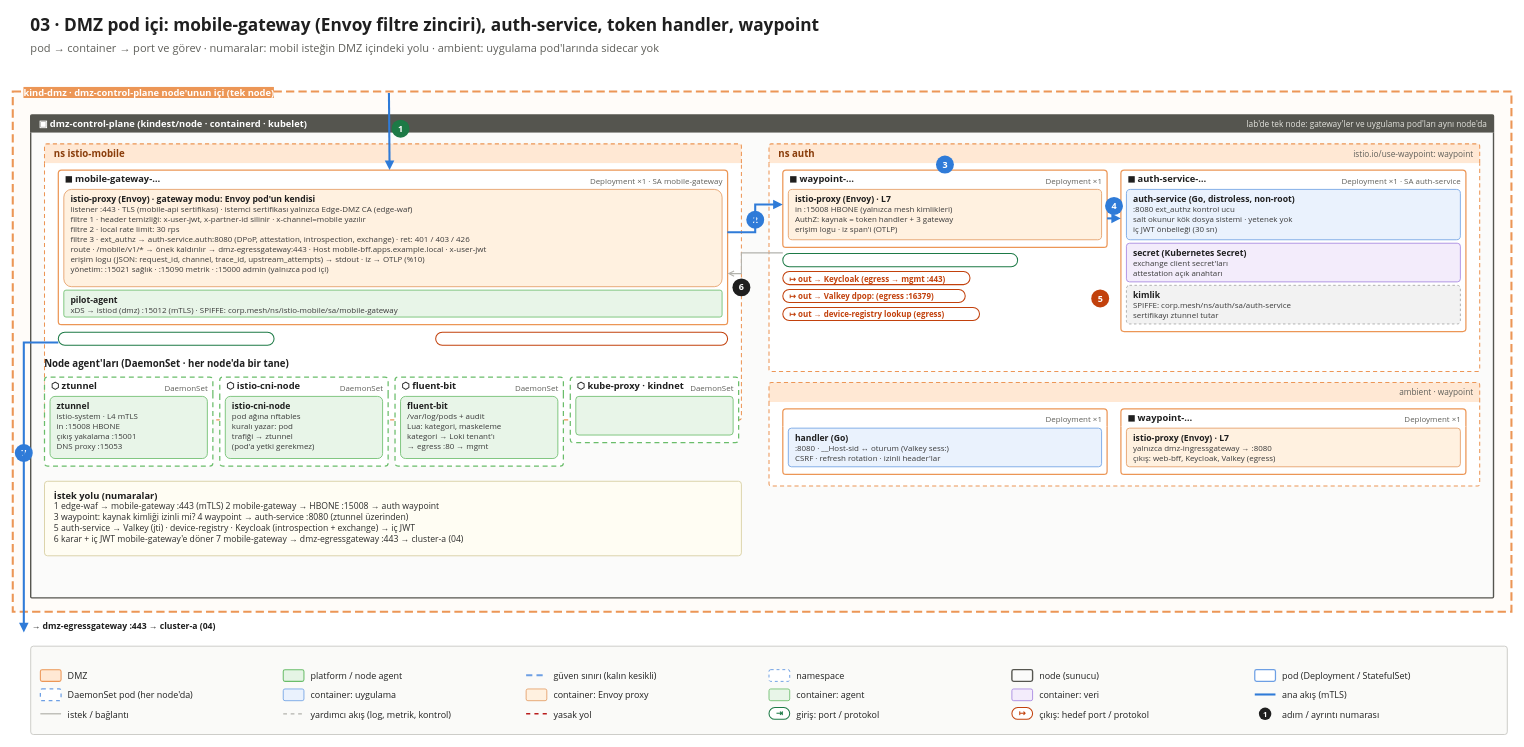
The diagram is 1524 pixels wide and 747 high, and some of its shapes have lost their labels. Here are the shapes that lost their labels. From the top down, the box of each, then its label:
(782, 253, 1018, 267): ⇥ in ← token handler · 3 gateway (HBONE :15008)
(57, 331, 274, 346): ⇥ in :443 ← edge-waf (yalnızca Edge-DMZ CA)
(435, 331, 728, 346): ↦ out → auth-service :8080 (HBONE) · dmz-egressgateway :443
(575, 396, 733, 435): kube-proxy · kindnet Service → pod (iptables) pod ağı (CNI)
(768, 382, 1480, 486): ns edge-web
(782, 408, 1107, 475): ◼ web-token-handler-…
(30, 645, 1507, 735): Lejant
